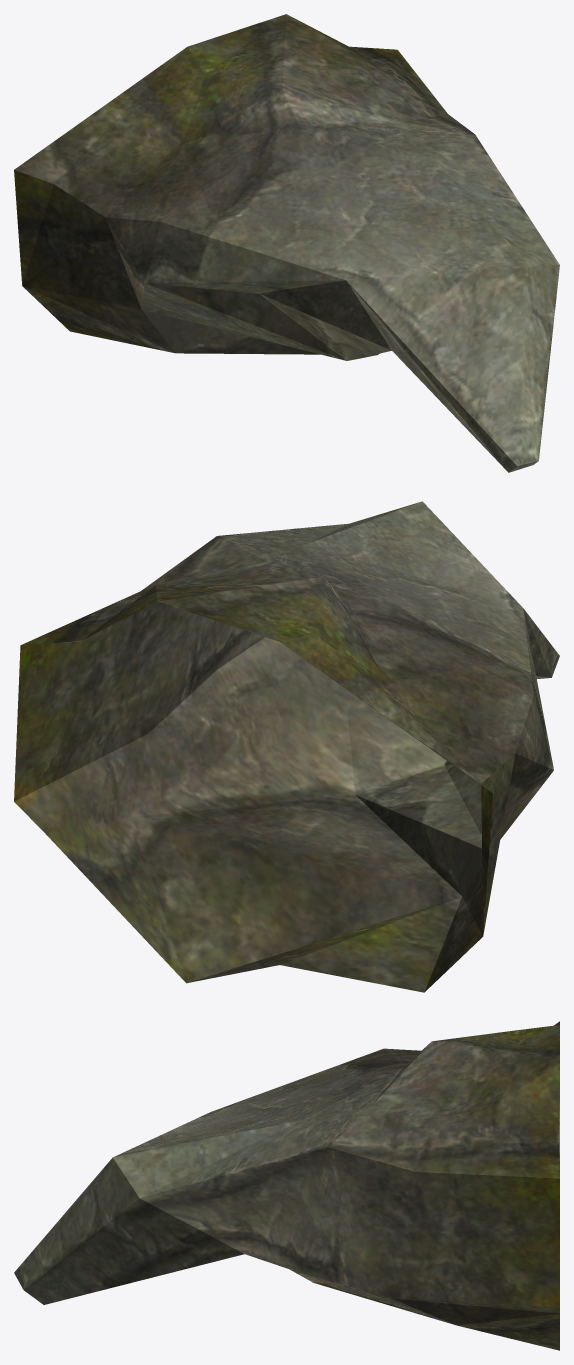
The model's file is dongfang_yewai_358_shizhu01c.obj.
3 renders of one model, top to bottom at view 1: azimuth 30°, elevation 25°; view 2: azimuth 150°, elevation 25°; view 3: azimuth 270°, elevation 25°, orthographic. The views are drawn at different scales.
Visible parts, largest first — view 1: dongfang_yewai_358_shizhu01c; view 2: dongfang_yewai_358_shizhu01c; view 3: dongfang_yewai_358_shizhu01c.
Part boxes in pixels (bbox=[...]): dongfang_yewai_358_shizhu01c: bbox=[14, 14, 559, 472]; dongfang_yewai_358_shizhu01c: bbox=[14, 501, 559, 992]; dongfang_yewai_358_shizhu01c: bbox=[14, 1021, 559, 1350].
Bounding box in the file's own units: 142 × 106 × 177.
1 material, 1 textured.
